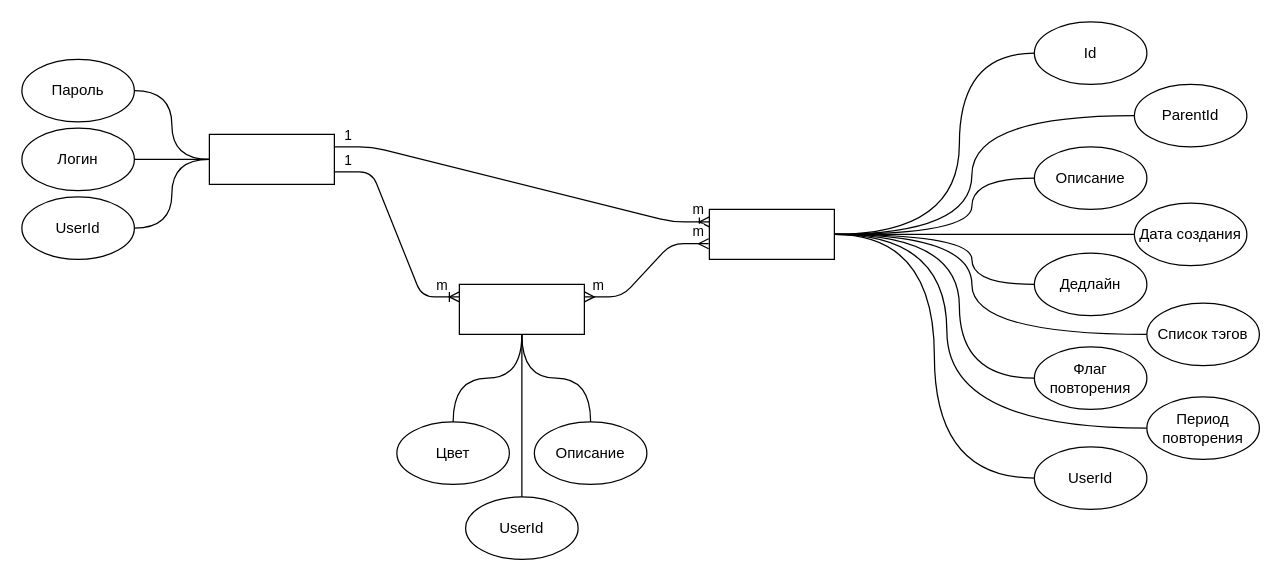
This 1281x581 diagram has some shape labels left out. The shapes that lost their labels are listed below. From the top down, each one's box as (x1, y1, x2, y2) in pixels, then its label:
(208, 133, 334, 184): Пользователь
(708, 208, 834, 259): Событие
(458, 283, 584, 334): Тэг
